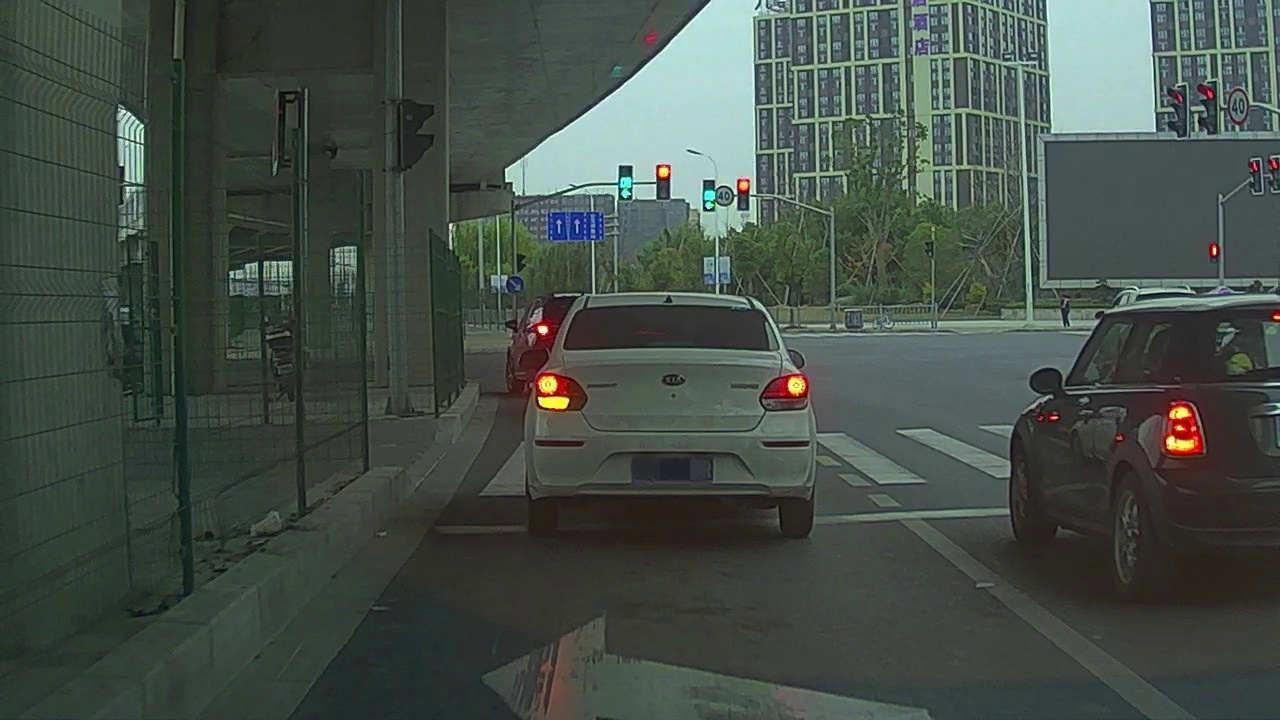traffic_light: (656, 164, 668, 198), (704, 179, 717, 208), (622, 164, 633, 197), (739, 181, 749, 209)
